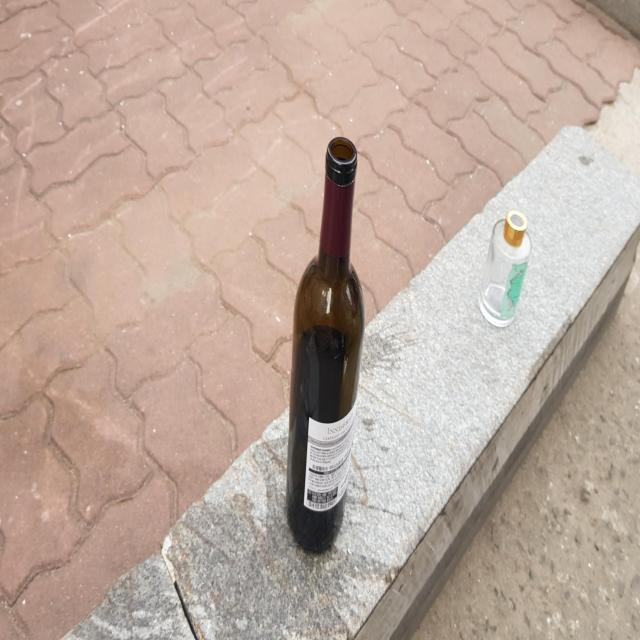glass: (287, 136, 365, 552), (480, 208, 532, 326)
